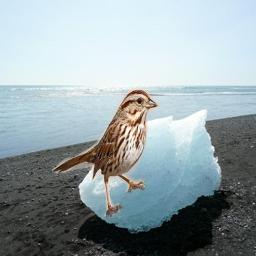Sparrow: (52, 88, 159, 218)
